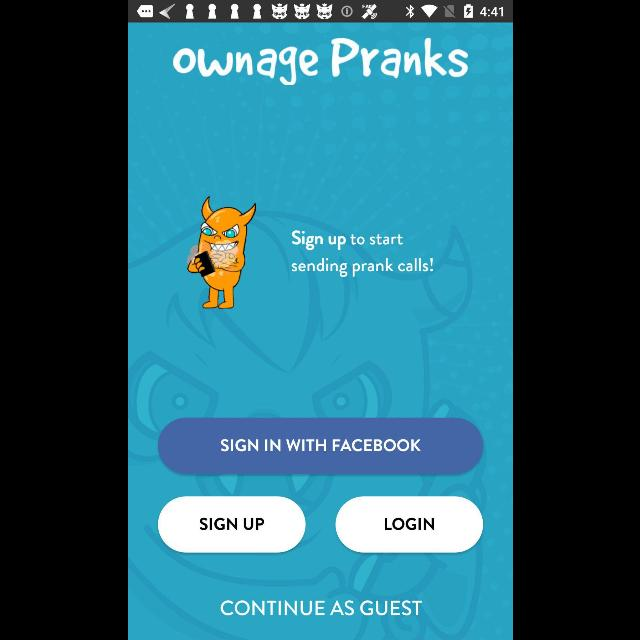backgroundimage: (128, 22, 512, 640)
image: (172, 38, 468, 86), (186, 196, 256, 310)
text: (290, 230, 432, 278), (220, 600, 422, 616)
textbutton: (156, 418, 482, 474), (157, 496, 305, 552), (334, 497, 482, 553)
uppertaskbar: (128, 1, 512, 23)
